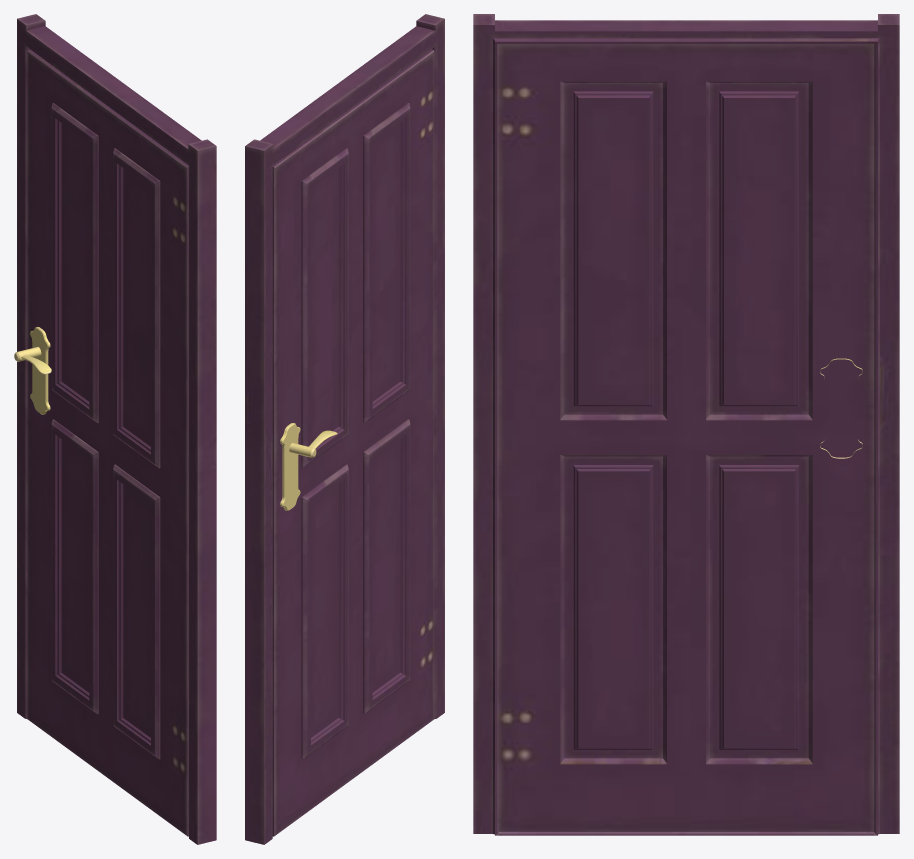
File: door.glb
The picture shows the model from 3 angles, left to right: view 1: azimuth 30°, elevation 25°; view 2: azimuth 150°, elevation 25°; view 3: azimuth 270°, elevation 25°; orthographic projection. The views are drawn at different scales.
Visible parts, largest first — view 1: Door; view 2: Door; view 3: Door.
Boxes of the visible parts, bbox=[...] form: Door: bbox=[14, 14, 216, 844]; Door: bbox=[245, 14, 444, 844]; Door: bbox=[473, 14, 899, 835].
Bounding box in the file's own units: 14.01 × 207 × 97.41.
1 material, 1 textured.
